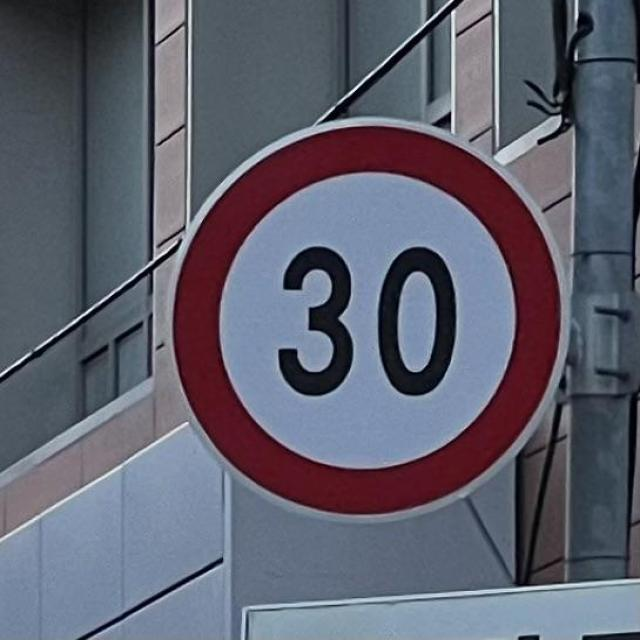speed_limit_30: (170, 118, 565, 523)
